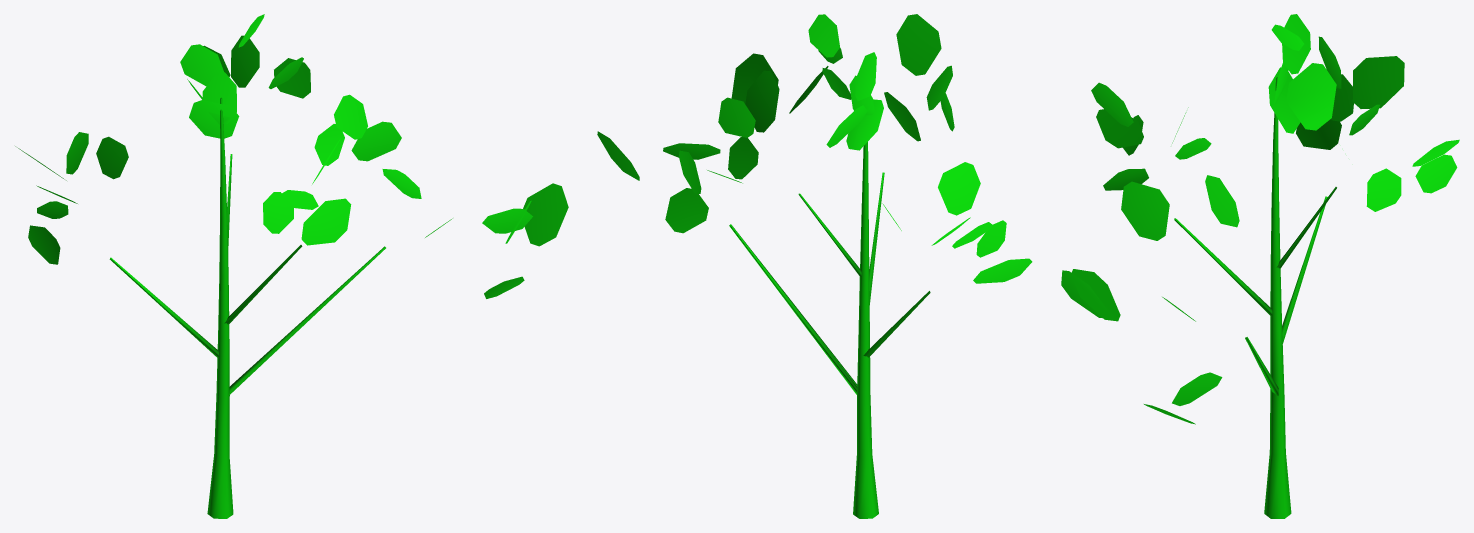
The model's file is tree_maple_a_lod1.glb.
3 renders of one model, left to right at view 1: azimuth 30°, elevation 25°; view 2: azimuth 150°, elevation 25°; view 3: azimuth 270°, elevation 25°, orthographic. The views are drawn at different scales.
Visible parts, largest first — view 1: tree_maple_a_lod1.1, tree_maple_a_lod1.0; view 2: tree_maple_a_lod1.1, tree_maple_a_lod1.0; view 3: tree_maple_a_lod1.1, tree_maple_a_lod1.0.
Boxes of the visible parts, bbox=[...] form: tree_maple_a_lod1.1: bbox=[15, 14, 568, 298]; tree_maple_a_lod1.0: bbox=[109, 97, 385, 518]; tree_maple_a_lod1.1: bbox=[597, 14, 1032, 283]; tree_maple_a_lod1.0: bbox=[729, 142, 930, 518]; tree_maple_a_lod1.1: bbox=[1061, 14, 1459, 424]; tree_maple_a_lod1.0: bbox=[1174, 77, 1336, 518].
Bounding box in the file's own units: 15.89 × 15.38 × 10.86.
